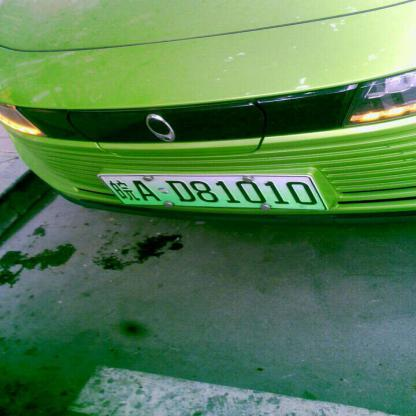lp: (100, 174, 326, 209)
